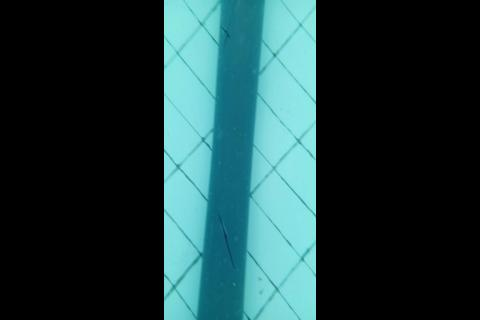keretakan: (217, 213, 236, 271), (220, 20, 232, 47)
